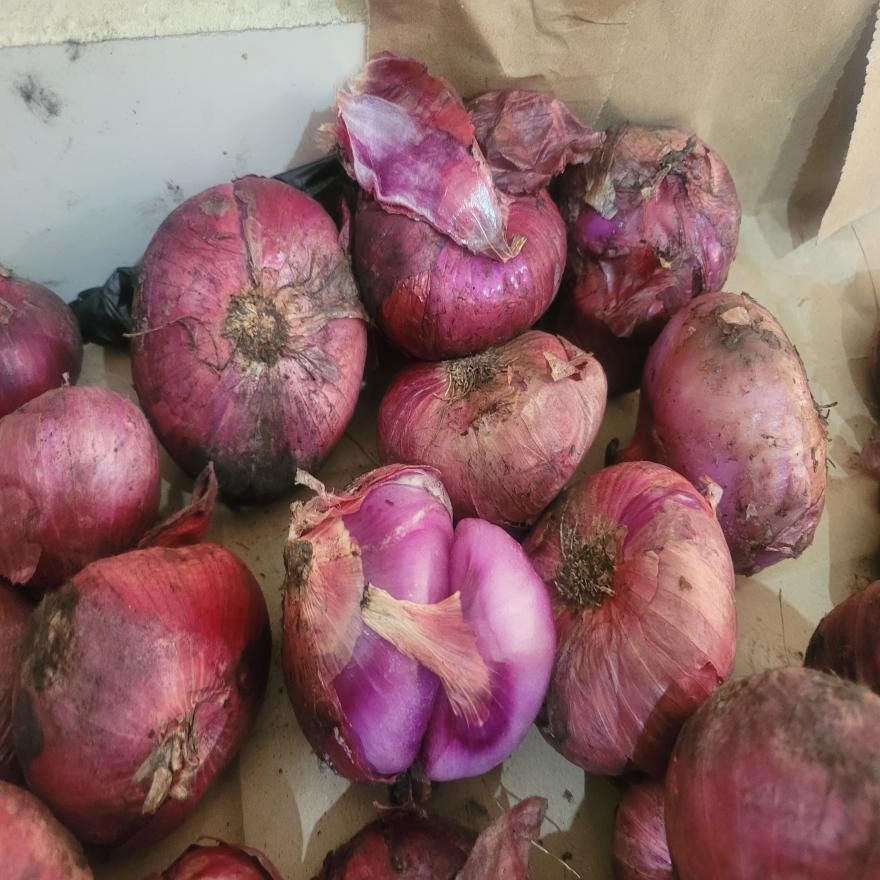Damaged: (271, 448, 561, 806)
